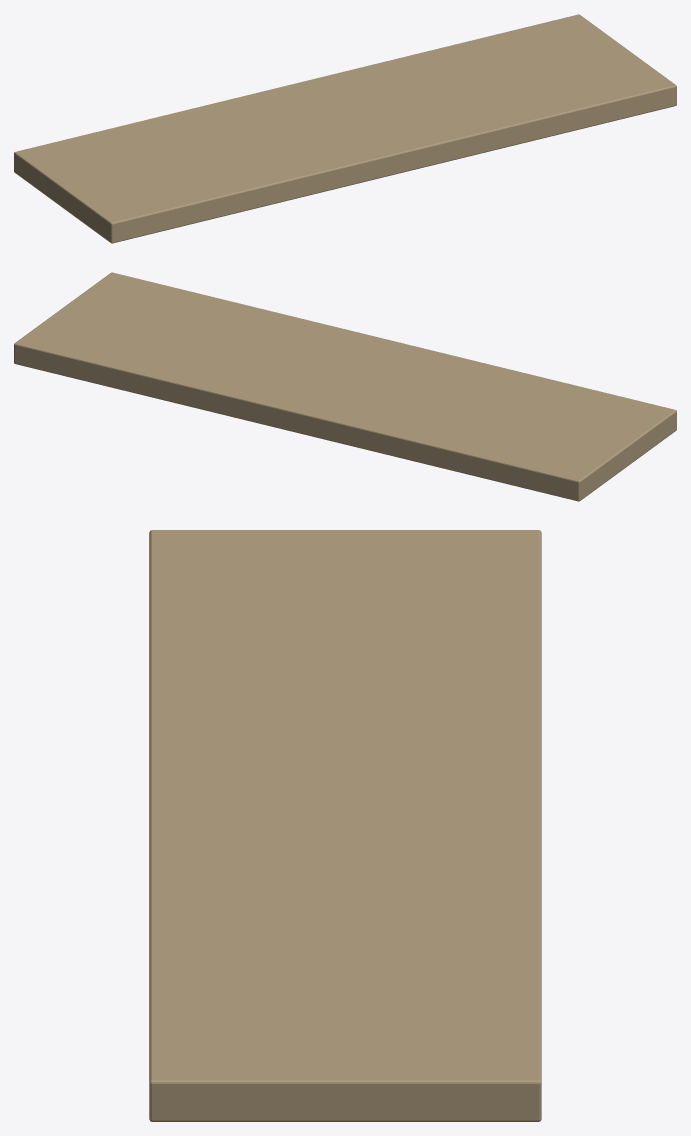
Rendered from MH_Door_Threshold_1m.fbx.
3 views of the same model, one above another, from view 1: azimuth 30°, elevation 25°; view 2: azimuth 150°, elevation 25°; view 3: azimuth 270°, elevation 25° (orthographic). The views are drawn at different scales.
Visible parts, largest first — view 1: Body; view 2: Body; view 3: Body.
Boxes of the visible parts, bbox=[...] form: Body: bbox=[14, 14, 676, 243]; Body: bbox=[14, 272, 676, 501]; Body: bbox=[149, 530, 541, 1121].
Size of the model in its own units: 1 by 0.035 by 0.3.
